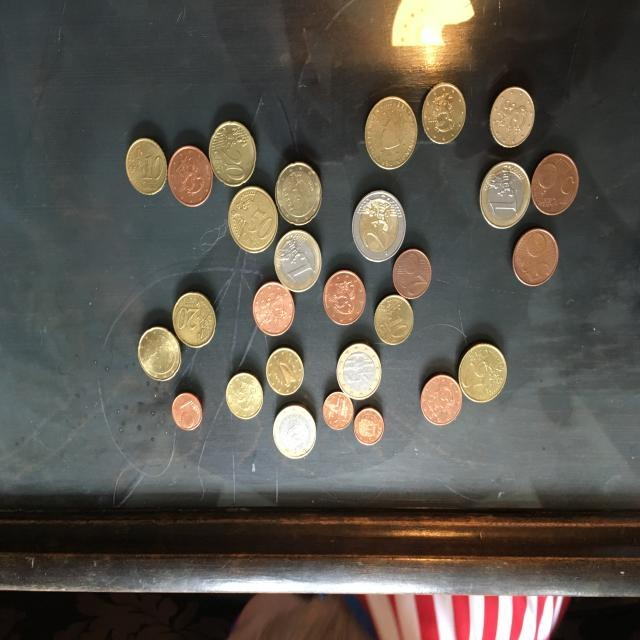10c: (124, 135, 169, 197), (222, 367, 266, 424), (374, 290, 416, 348), (266, 345, 306, 396)
1c: (170, 392, 206, 432), (320, 390, 355, 431), (354, 406, 386, 448)
1e: (480, 158, 532, 235), (272, 228, 325, 294), (270, 398, 318, 464), (333, 341, 383, 403)
20c: (206, 120, 261, 188), (274, 160, 324, 227), (420, 78, 468, 146), (488, 86, 538, 148), (171, 290, 221, 350), (135, 325, 184, 383)
2c: (390, 248, 434, 301)
2e: (350, 187, 408, 266)
50c: (359, 95, 422, 176), (227, 184, 280, 254), (456, 340, 510, 408)
5c: (530, 149, 580, 217), (512, 226, 561, 288), (167, 146, 214, 208), (252, 277, 298, 336), (321, 270, 369, 326), (416, 372, 464, 428)
